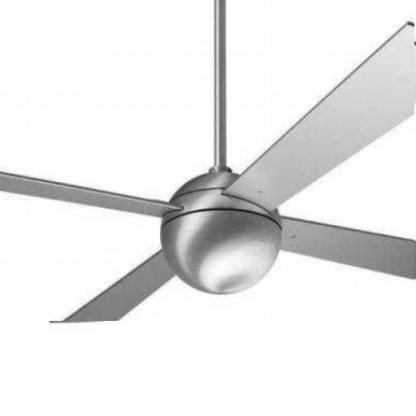ceiling-fan: (0, 0, 415, 322)
